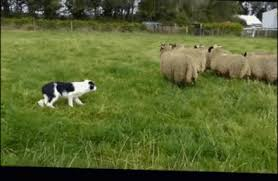sheep: (38, 78, 99, 110), (157, 42, 198, 86), (206, 44, 251, 82), (243, 49, 278, 81)
